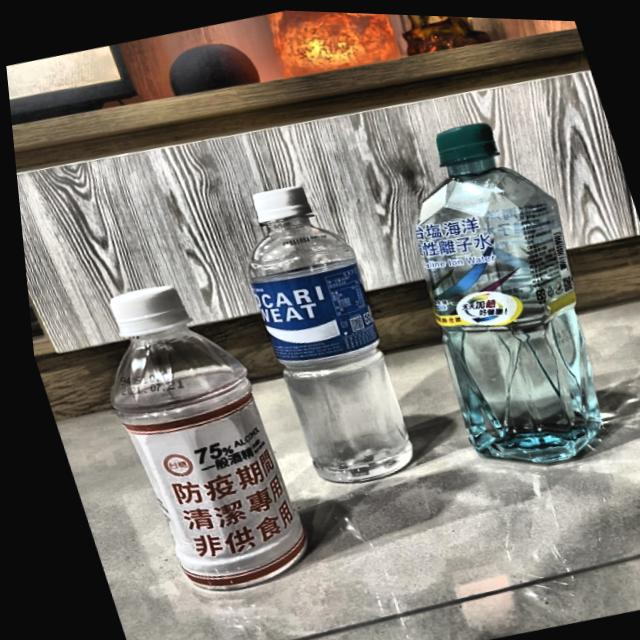Bottles: (360, 96, 637, 491), (62, 250, 324, 619), (208, 162, 436, 503)
